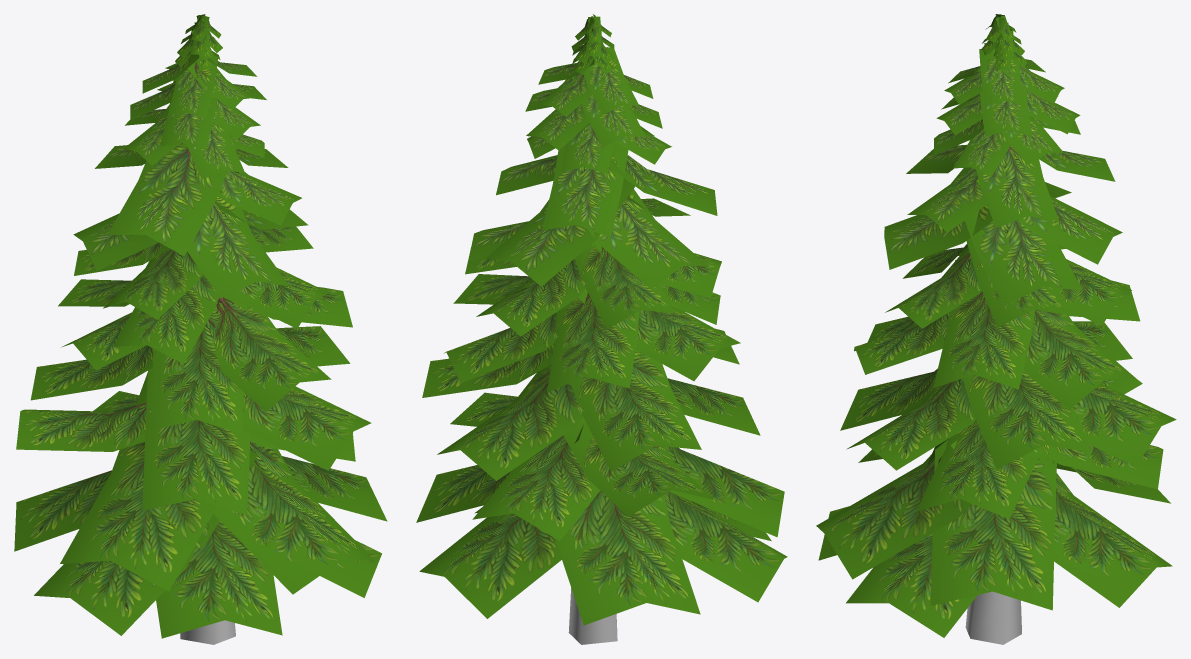
File: pine_tree_03.FBX
3 renders of one model, left to right at view 1: azimuth 30°, elevation 25°; view 2: azimuth 150°, elevation 25°; view 3: azimuth 270°, elevation 25°, orthographic.
Parts seen in each view (by area): view 1: brunch033, pine tree; view 2: brunch033, pine tree; view 3: brunch033, pine tree.
Part boxes in pixels (x1,y1,x2,y2): brunch033: [14, 14, 387, 638]; pine tree: [180, 620, 235, 644]; brunch033: [416, 14, 787, 625]; pine tree: [568, 588, 617, 644]; brunch033: [816, 14, 1176, 637]; pine tree: [965, 591, 1021, 644].
Bounding box in the file's own units: 11.86 × 21.49 × 11.35.
